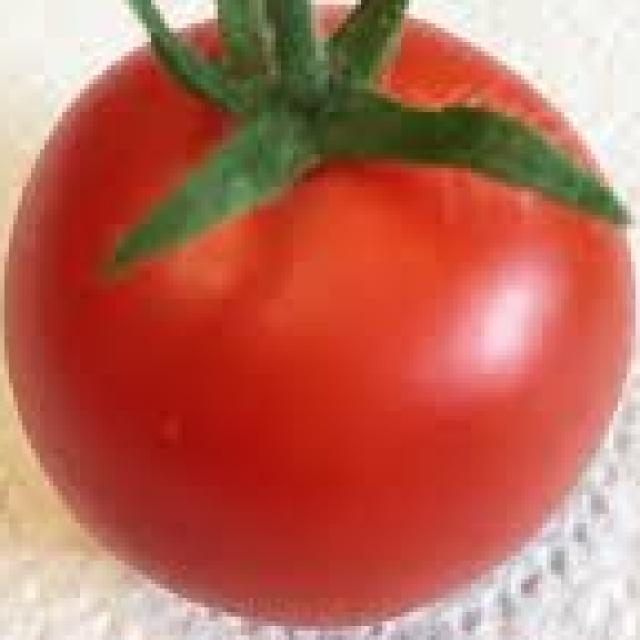Healthy: (9, 14, 610, 624)
